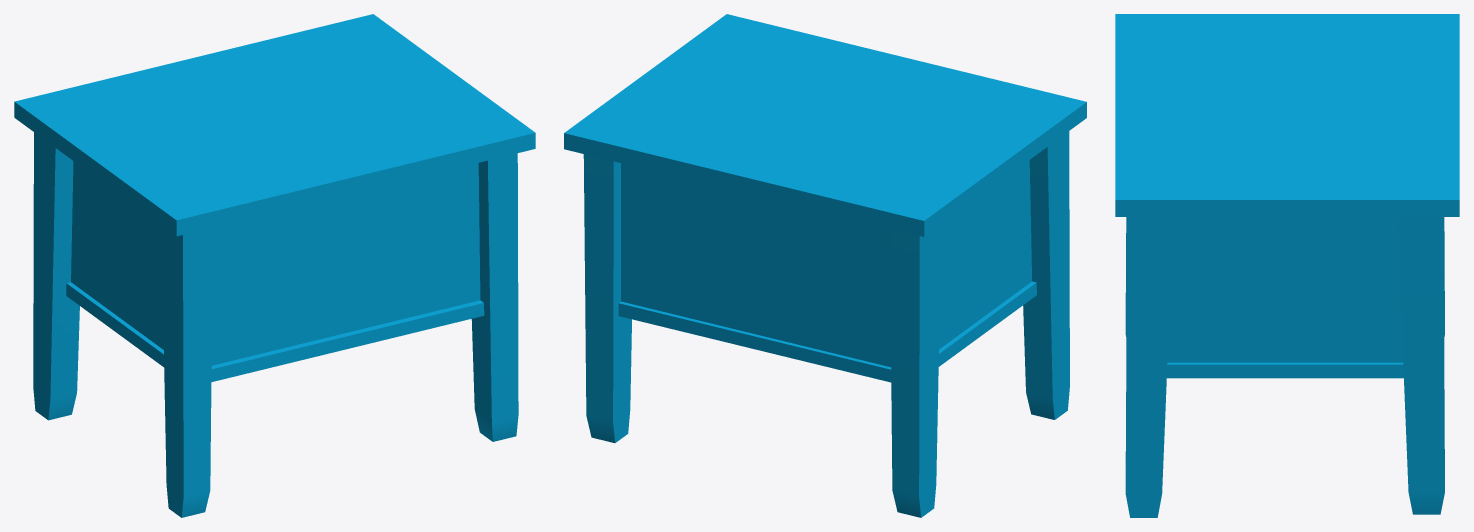
The model's file is Cupboard_08_Lod0.fbx.
3 views of the same model, side by side, from view 1: azimuth 30°, elevation 25°; view 2: azimuth 150°, elevation 25°; view 3: azimuth 270°, elevation 25° (orthographic). The views are drawn at different scales.
Parts seen in each view (by area): view 1: Cupboard_08_Lod0; view 2: Cupboard_08_Lod0; view 3: Cupboard_08_Lod0.
Part boxes in pixels (bbox=[...]): Cupboard_08_Lod0: bbox=[14, 14, 535, 517]; Cupboard_08_Lod0: bbox=[564, 14, 1086, 517]; Cupboard_08_Lod0: bbox=[1115, 14, 1459, 517].
Size of the model in its own units: 62.9 by 51.16 by 49.24.
